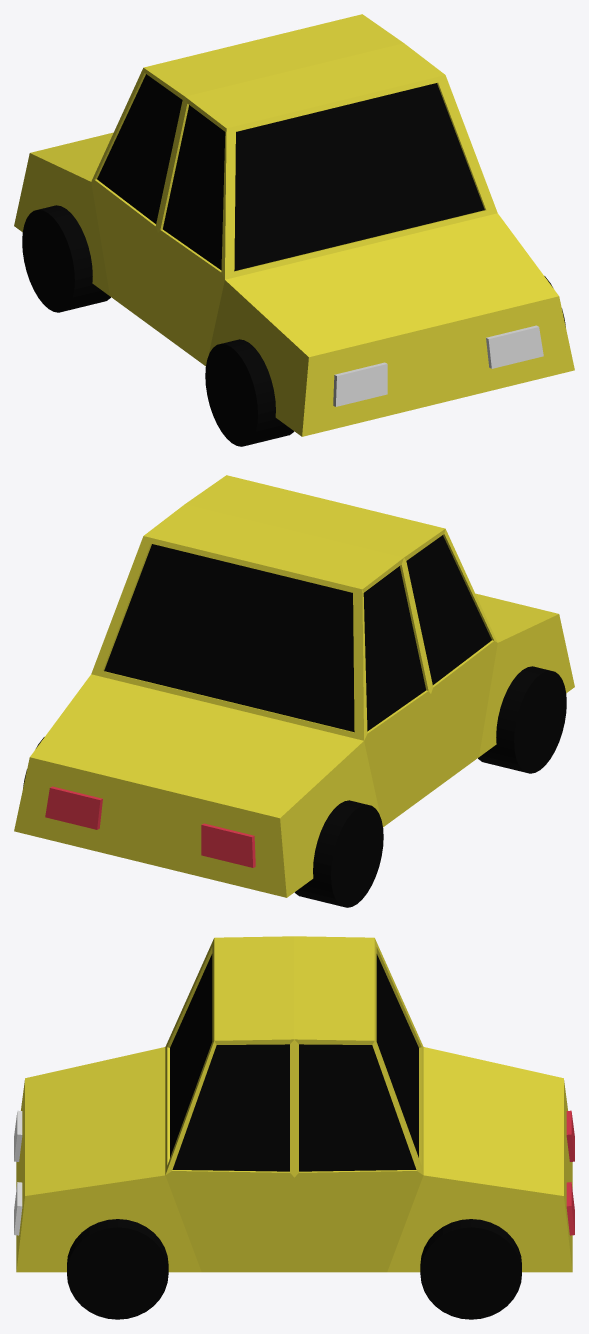
File: car.glb
The picture shows the model from 3 angles, top to bottom: view 1: azimuth 30°, elevation 25°; view 2: azimuth 150°, elevation 25°; view 3: azimuth 270°, elevation 25°; orthographic projection. The views are drawn at different scales.
Visible parts, largest first — view 1: Cube; view 2: Cube; view 3: Cube.
Boxes of the visible parts, box(x1,y1,x2,y2) form: Cube: box(14, 14, 574, 446); Cube: box(14, 475, 574, 907); Cube: box(14, 936, 574, 1319).
Bounding box in the file's own units: 3.39 × 2.82 × 5.53.
